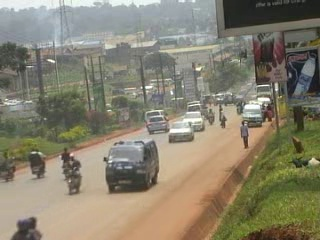Car: (165, 119, 195, 144), (180, 110, 204, 134), (145, 114, 170, 136), (183, 103, 207, 116)
Motorcycle: (64, 152, 84, 196), (26, 145, 50, 180), (7, 215, 44, 236), (0, 146, 17, 184), (56, 146, 74, 176), (205, 105, 214, 126), (233, 98, 243, 115)
